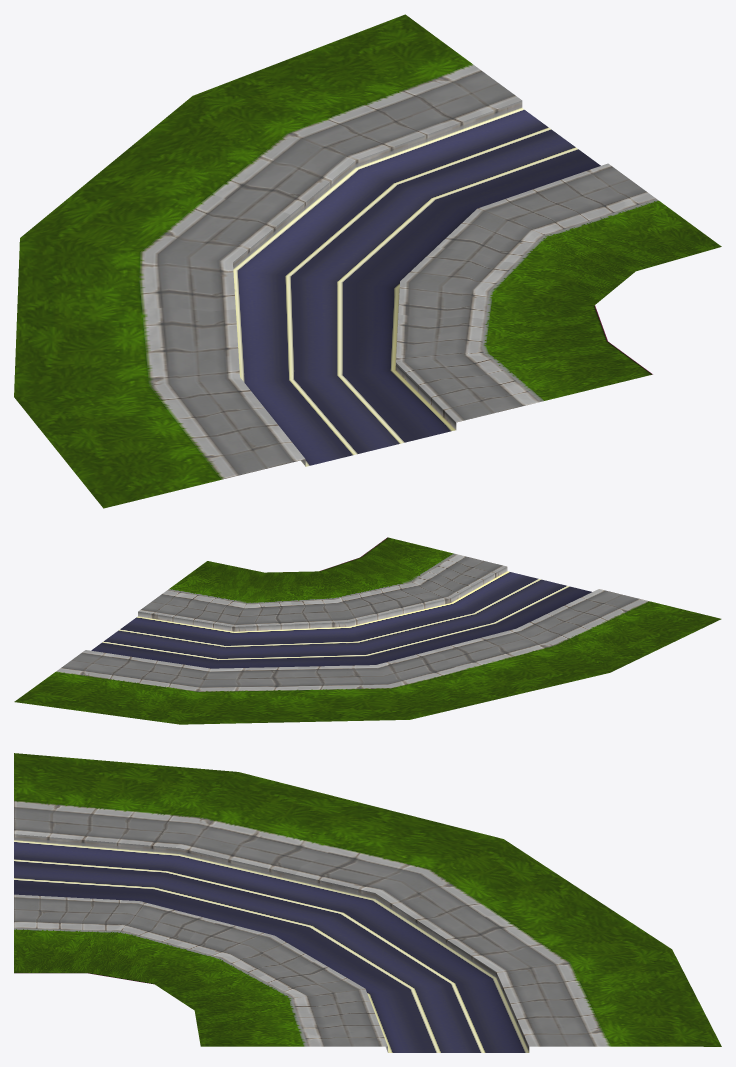
File: pk_model_dianmian_zhuanwan.FBX
3 renders of one model, top to bottom at view 1: azimuth 30°, elevation 25°; view 2: azimuth 150°, elevation 25°; view 3: azimuth 270°, elevation 25°, orthographic. The views are drawn at different scales.
Parts seen in each view (by area): view 1: Object086; view 2: Object086; view 3: Object086.
Part boxes in pixels (x1=…): Object086: x1=14, y1=14, x2=721, y2=508; Object086: x1=14, y1=537, x2=721, y2=724; Object086: x1=14, y1=753, x2=721, y2=1052.
Bounding box in the file's own units: 4032 × 40.01 × 4107.
